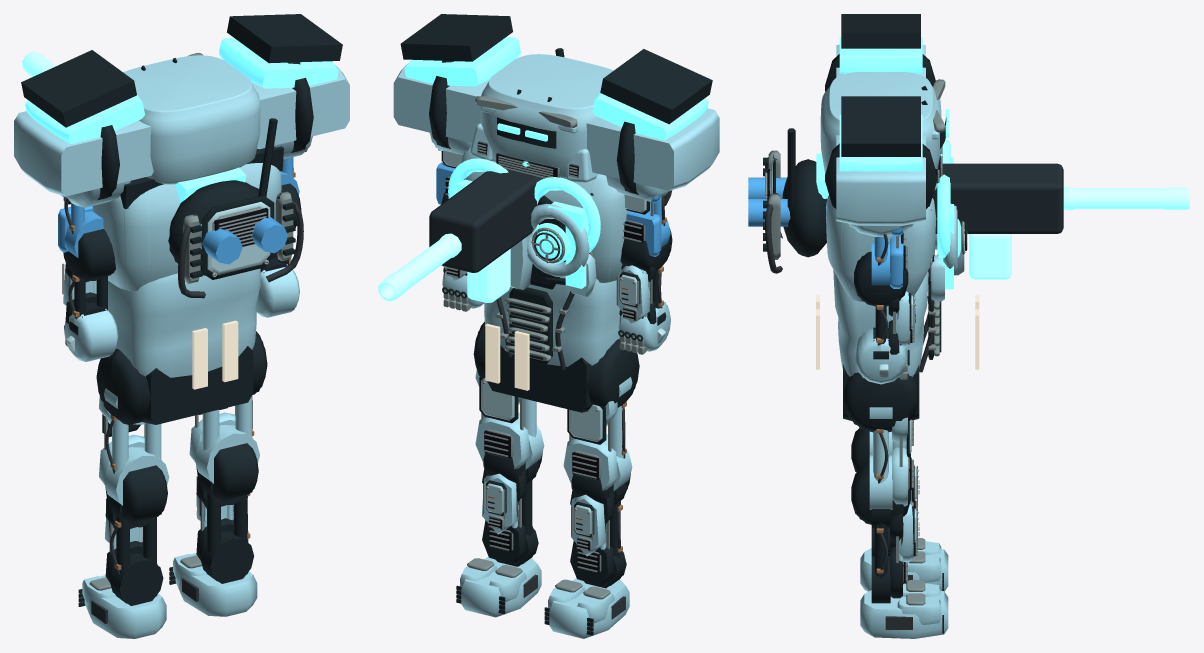
The model's file is meta.glb.
The picture shows the model from 3 angles, left to right: view 1: azimuth 30°, elevation 25°; view 2: azimuth 150°, elevation 25°; view 3: azimuth 270°, elevation 25°; orthographic projection. The views are drawn at different scales.
Parts seen in each view (by area): view 1: LOD3_Batch6, LOD3_Batch50, LOD3_Batch44, LOD3_Batch22, LOD1_Batch4, LOD7_Batch20, LOD3_Batch70, LOD7_Batch35, LOD3_Batch63, LOD3_Batch37, LOD3_Batch54, LOD3_Batch58 (+33 smaller); view 2: LOD3_Batch6, LOD7_Batch42, LOD3_Batch44, LOD3_Batch22, LOD3_Batch50, LOD7_Batch20, LOD7_Batch35, LOD3_Batch37, LOD7_Batch43, LOD1_Batch51, LOD3_Batch70, LOD3_Batch61 (+42 smaller); view 3: LOD7_Batch42, LOD3_Batch44, LOD3_Batch37, LOD7_Batch35, LOD7_Batch43, LOD3_Batch6, LOD3_Batch50, LOD3_Batch61, LOD3_Batch69, LOD3_Batch67, LOD7_Batch20, LOD3_Batch3 (+22 smaller).
Part boxes in pixels (bbox=[...]): LOD3_Batch6: bbox=[123, 55, 260, 184]; LOD3_Batch50: bbox=[108, 268, 260, 377]; LOD3_Batch44: bbox=[92, 163, 281, 291]; LOD3_Batch22: bbox=[14, 111, 153, 196]; LOD1_Batch4: bbox=[178, 191, 303, 298]; LOD7_Batch20: bbox=[21, 50, 136, 127]; LOD3_Batch70: bbox=[141, 346, 253, 424]; LOD7_Batch35: bbox=[227, 14, 342, 63]; LOD3_Batch63: bbox=[196, 472, 253, 583]; LOD3_Batch37: bbox=[251, 64, 349, 149]; LOD3_Batch54: bbox=[105, 494, 163, 605]; LOD3_Batch58: bbox=[99, 388, 169, 505]; LOD3_Batch6: bbox=[470, 54, 613, 182]; LOD7_Batch42: bbox=[429, 169, 544, 272]; LOD3_Batch44: bbox=[460, 147, 650, 296]; LOD3_Batch22: bbox=[586, 108, 719, 190]; LOD3_Batch50: bbox=[484, 277, 619, 366]; LOD7_Batch20: bbox=[600, 49, 712, 124]; LOD7_Batch35: bbox=[400, 14, 512, 61]; LOD3_Batch37: bbox=[393, 63, 489, 142]; LOD7_Batch43: bbox=[378, 233, 510, 302]; LOD1_Batch51: bbox=[495, 287, 574, 370]; LOD3_Batch70: bbox=[487, 345, 592, 412]; LOD3_Batch61: bbox=[460, 557, 541, 617]; LOD7_Batch42: bbox=[928, 163, 1063, 279]; LOD3_Batch44: bbox=[826, 195, 964, 301]; LOD3_Batch37: bbox=[836, 135, 925, 225]; LOD7_Batch35: bbox=[841, 96, 920, 156]; LOD7_Batch43: bbox=[969, 187, 1189, 279]; LOD3_Batch6: bbox=[820, 72, 941, 190]; LOD3_Batch50: bbox=[833, 270, 928, 376]; LOD3_Batch61: bbox=[860, 583, 948, 638]; LOD3_Batch69: bbox=[843, 372, 919, 432]; LOD3_Batch67: bbox=[869, 407, 907, 509]; LOD7_Batch20: bbox=[841, 14, 920, 48]; LOD3_Batch3: bbox=[782, 159, 826, 256].
Bounding box in the file's own units: 0.9878 × 1.8 × 1.33.
